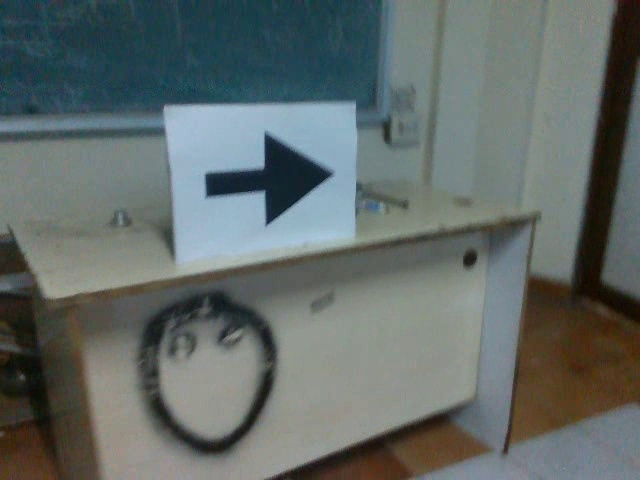Right: (195, 125, 336, 231)
